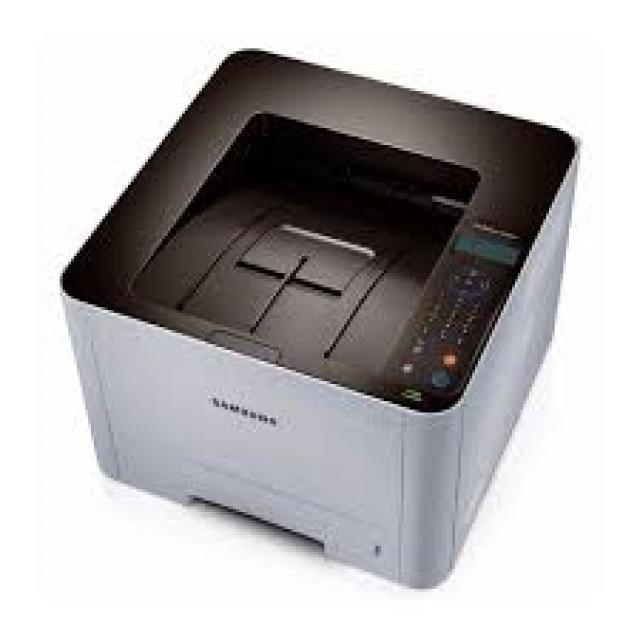printer: (49, 40, 586, 592)
